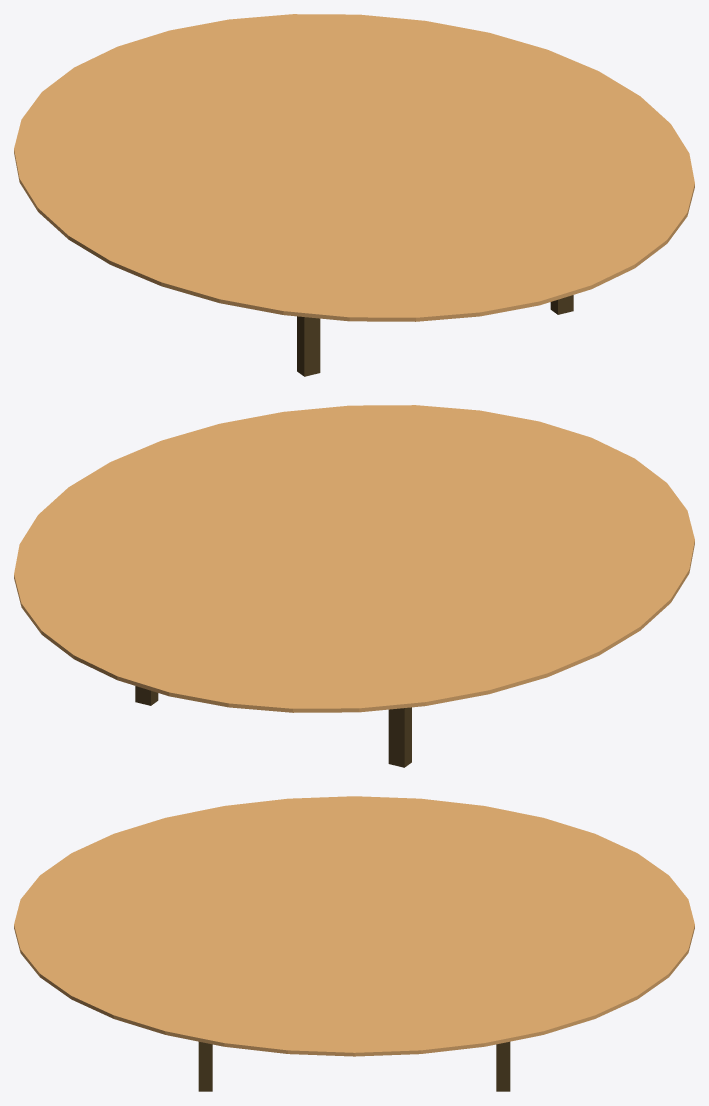
The model's file is stol.fbx.
3 views of the same model, one above another, from view 1: azimuth 30°, elevation 25°; view 2: azimuth 150°, elevation 25°; view 3: azimuth 270°, elevation 25° (orthographic). The views are drawn at different scales.
Parts seen in each view (by area): view 1: Cylinder; view 2: Cylinder; view 3: Cylinder.
Part boxes in pixels (bbox=[...]): Cylinder: bbox=[14, 14, 694, 376]; Cylinder: bbox=[14, 405, 694, 767]; Cylinder: bbox=[14, 796, 694, 1091].
Size of the model in its own units: 528 by 103 by 593.
